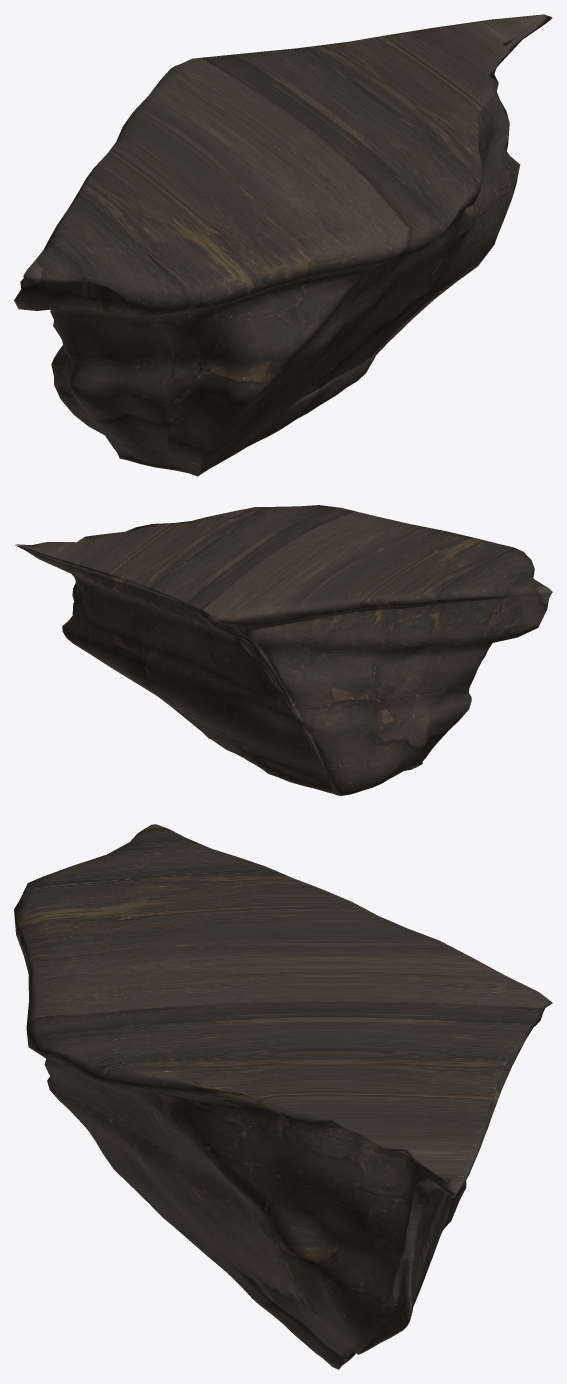
Rendered from cliff_shelf_a_lod0.gltf.
3 views of the same model, one above another, from view 1: azimuth 30°, elevation 25°; view 2: azimuth 150°, elevation 25°; view 3: azimuth 270°, elevation 25° (orthographic). The views are drawn at different scales.
Parts seen in each view (by area): view 1: cliff_shelf_a_LOD0; view 2: cliff_shelf_a_LOD0; view 3: cliff_shelf_a_LOD0.
Boxes of the visible parts, bbox=[...] form: cliff_shelf_a_LOD0: bbox=[14, 14, 552, 476]; cliff_shelf_a_LOD0: bbox=[15, 505, 552, 795]; cliff_shelf_a_LOD0: bbox=[14, 824, 552, 1369].
Size of the model in its own units: 16.95 by 7 by 10.25.
1 material, 1 textured.
